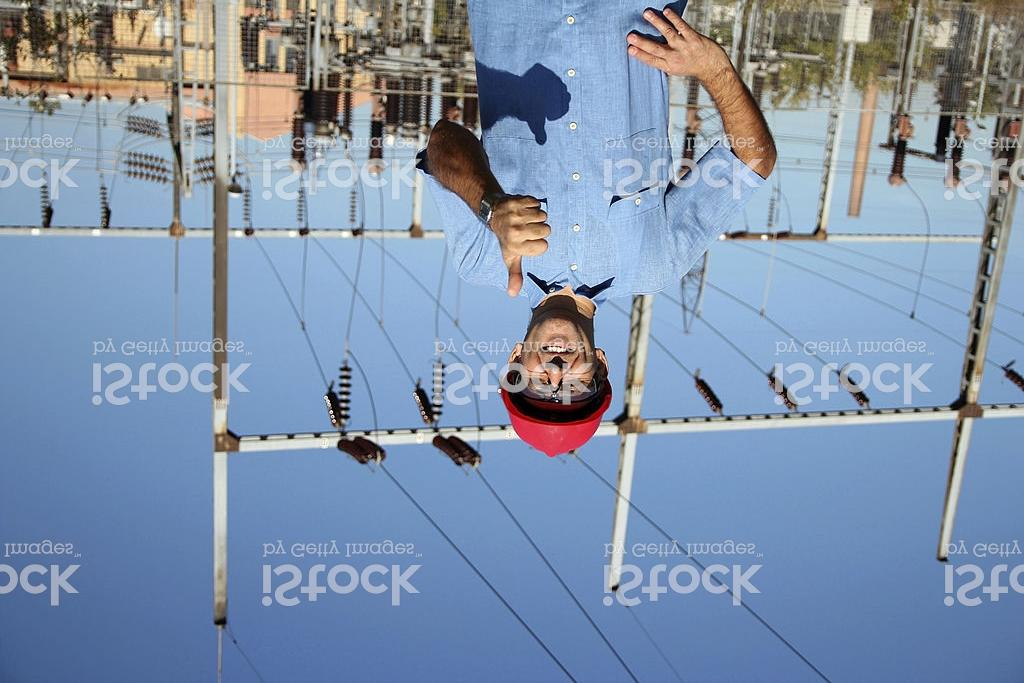thumbsdown: (504, 195, 553, 297)
